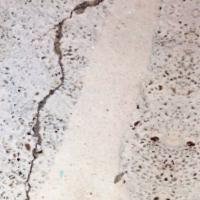crack: (18, 1, 110, 200)
